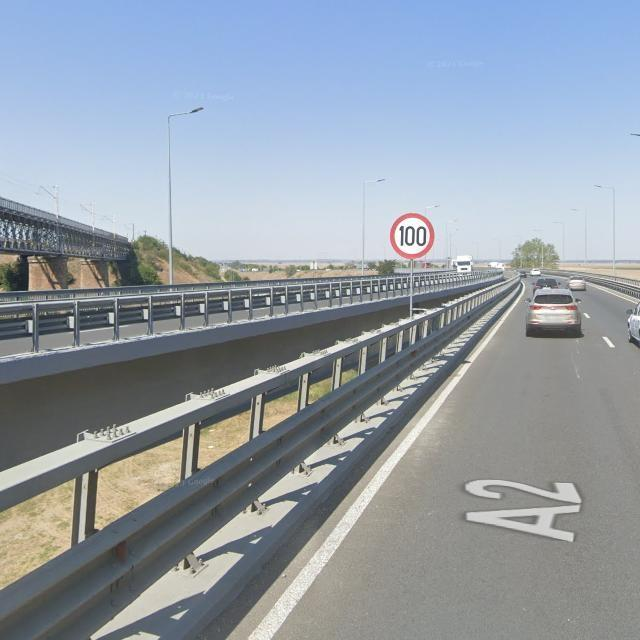forb_speed_over_100: (389, 212, 434, 260)
